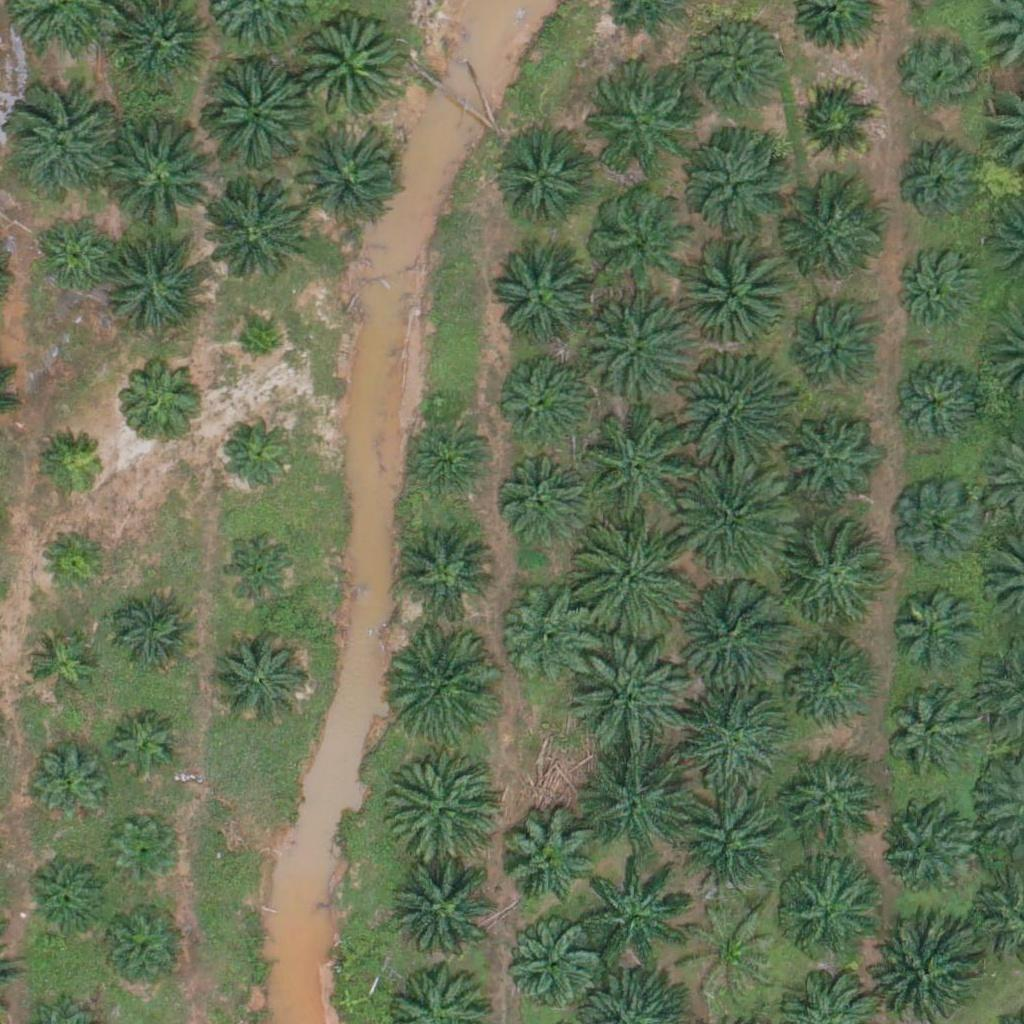Kelapa_Sawit: (387, 625, 500, 739), (571, 642, 684, 755), (383, 749, 496, 862), (680, 463, 793, 576), (680, 352, 793, 465), (679, 234, 792, 347), (680, 119, 793, 232), (577, 294, 690, 407), (579, 523, 692, 636), (196, 59, 309, 172), (193, 176, 306, 289), (8, 88, 121, 201), (676, 680, 788, 794), (677, 793, 789, 907), (390, 858, 502, 972), (684, 577, 796, 691), (100, 118, 212, 232), (578, 855, 690, 968), (582, 740, 694, 853), (776, 178, 888, 291), (778, 528, 890, 641), (584, 408, 696, 521), (292, 11, 404, 124), (289, 119, 401, 232), (105, 228, 217, 341), (874, 801, 974, 902), (683, 897, 783, 998), (500, 915, 600, 1016), (208, 631, 308, 732), (887, 476, 987, 577), (779, 416, 879, 517), (581, 76, 681, 177), (587, 188, 687, 289), (493, 342, 593, 443), (493, 250, 593, 351), (499, 124, 599, 225), (395, 522, 495, 623), (780, 759, 880, 859), (773, 860, 873, 960), (497, 808, 597, 908), (888, 355, 988, 455), (688, 11, 788, 111), (500, 585, 600, 685), (496, 444, 596, 544), (25, 737, 113, 826), (217, 525, 305, 614), (885, 688, 973, 776), (782, 642, 870, 730), (95, 904, 183, 992), (32, 214, 120, 302), (888, 585, 976, 673), (894, 32, 982, 120), (895, 144, 983, 232), (895, 249, 983, 337), (117, 351, 205, 439), (111, 590, 199, 678), (24, 852, 111, 940), (215, 407, 302, 495), (790, 79, 877, 167), (787, 300, 874, 388), (402, 410, 489, 498), (107, 817, 182, 893), (37, 428, 112, 503), (22, 628, 97, 703), (110, 712, 185, 787), (37, 524, 112, 599), (234, 322, 284, 372)
